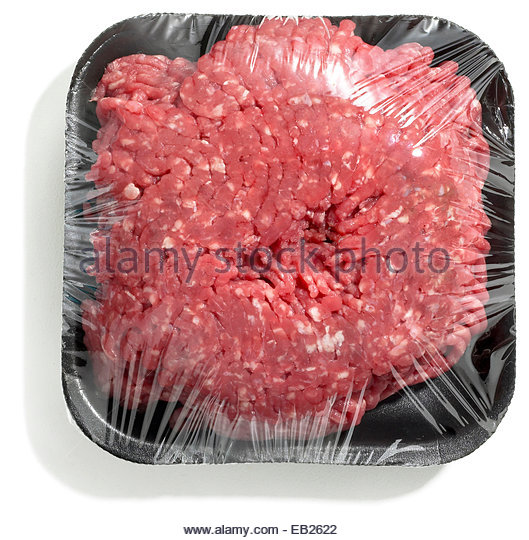ground_beef: (110, 86, 478, 393)
